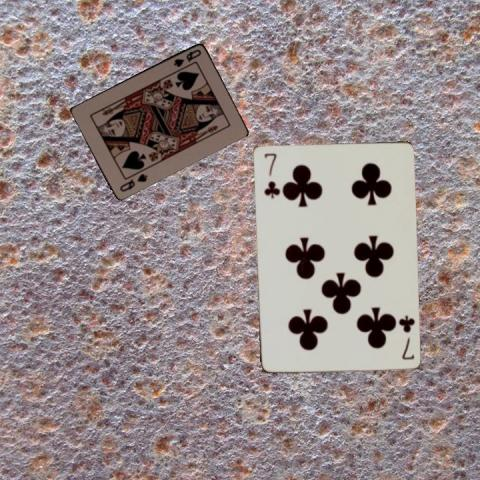7c: (395, 312, 416, 361), (261, 150, 278, 200)
Qs: (170, 46, 202, 69), (117, 170, 148, 193)
